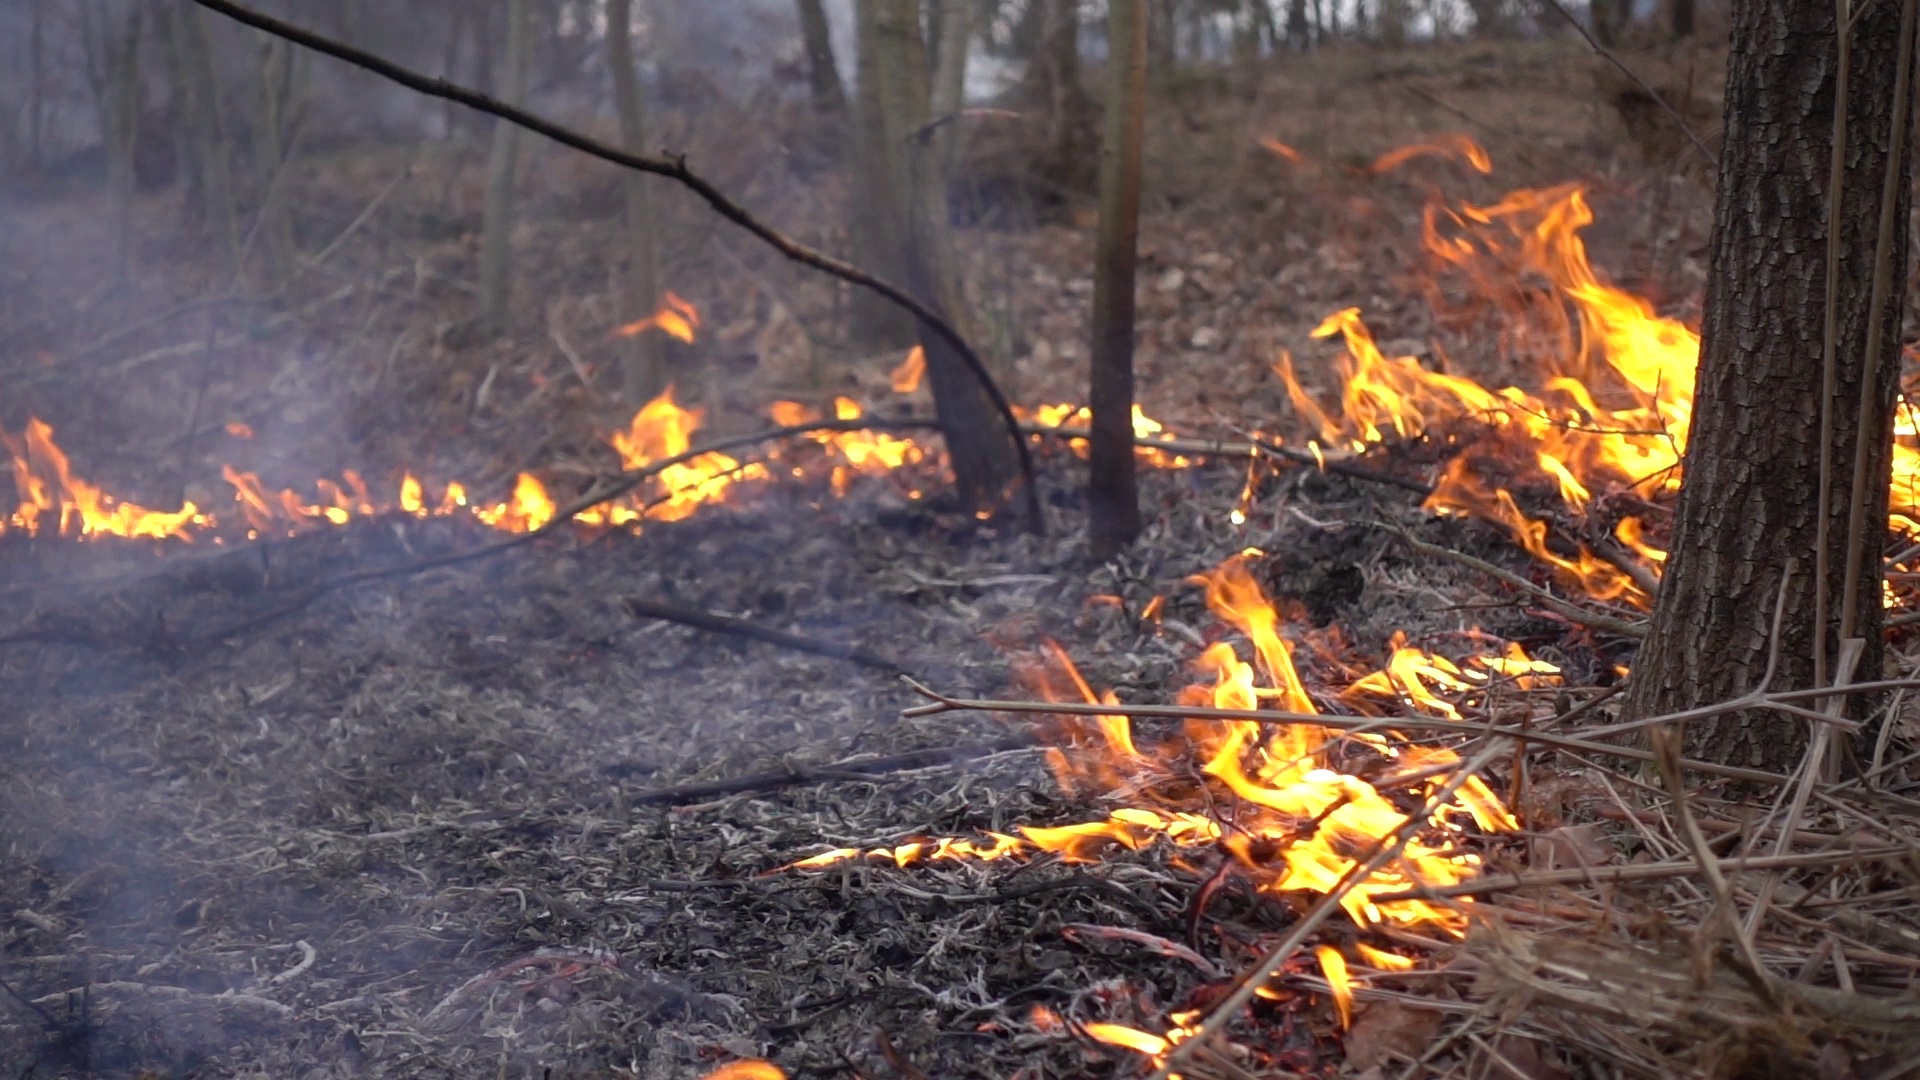fire: (1017, 558, 1501, 986), (1280, 187, 1695, 566), (9, 415, 186, 541), (615, 390, 756, 520), (814, 396, 906, 493), (394, 477, 549, 527), (237, 473, 365, 520), (1890, 396, 1920, 516)
